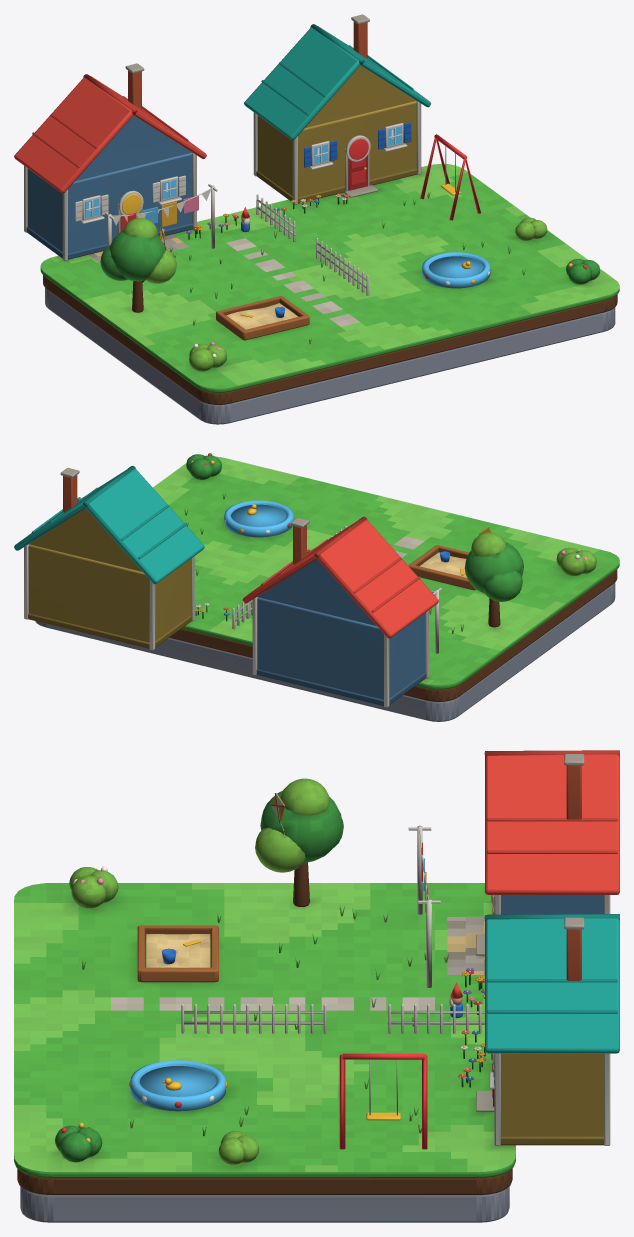
Rendered from gardens.glb.
3 renders of one model, top to bottom at view 1: azimuth 30°, elevation 25°; view 2: azimuth 150°, elevation 25°; view 3: azimuth 270°, elevation 25°, orthographic. The views are drawn at different scales.
Visible parts, largest first — view 1: gardens_Matte, gardens_Satin, gardens_Gloss, gardens_Water; view 2: gardens_Satin, gardens_Matte, gardens_Gloss, gardens_Water; view 3: gardens_Matte, gardens_Satin, gardens_Gloss, gardens_Water.
Boxes of the visible parts, bbox=[...] form: gardens_Matte: bbox=[40, 163, 619, 392]; gardens_Satin: bbox=[24, 14, 617, 424]; gardens_Gloss: bbox=[14, 24, 587, 357]; gardens_Water: bbox=[429, 256, 483, 278]; gardens_Satin: bbox=[24, 454, 617, 721]; gardens_Matte: bbox=[153, 456, 619, 689]; gardens_Gloss: bbox=[14, 453, 586, 638]; gardens_Water: bbox=[231, 504, 286, 526]; gardens_Matte: bbox=[14, 883, 515, 1177]; gardens_Satin: bbox=[17, 754, 610, 1222]; gardens_Gloss: bbox=[61, 750, 619, 1149]; gardens_Water: bbox=[139, 1066, 216, 1096].
Size of the model in its own units: 15 by 6.42 by 13.28.
